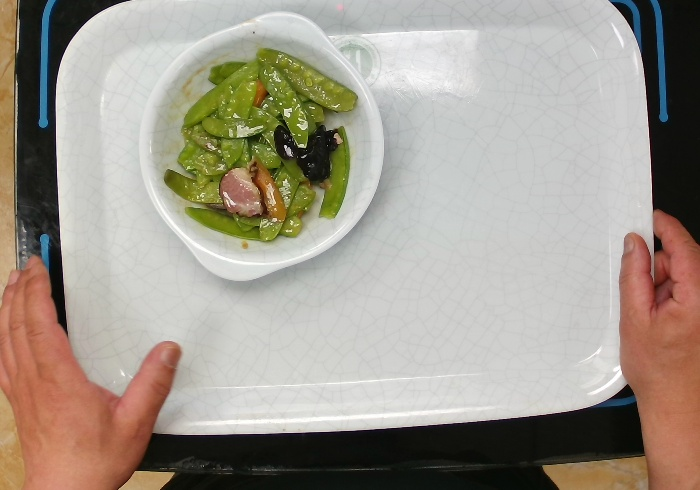JYsf-Shuang_Er_Wan: (135, 9, 387, 283)
